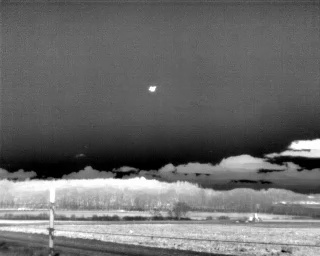DRONE: (145, 81, 161, 97)
